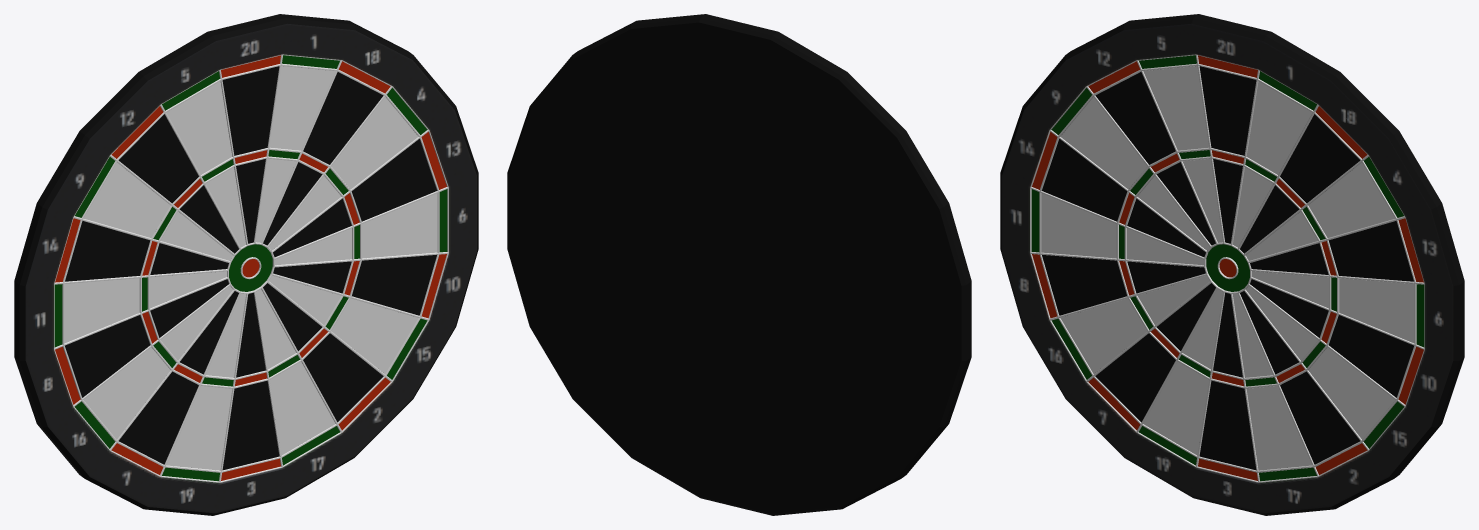
Rendered from low-poly-dart-board-56fc6a.glb.
The picture shows the model from 3 angles, left to right: view 1: azimuth 30°, elevation 25°; view 2: azimuth 150°, elevation 25°; view 3: azimuth 330°, elevation 25°; orthographic projection.
Visible parts, largest first — view 1: PropMesh; view 2: PropMesh; view 3: PropMesh.
Part boxes in pixels (<box>): PropMesh: <box>14,14,478,515</box>; PropMesh: <box>507,14,971,515</box>; PropMesh: <box>1000,14,1464,515</box>.
Size of the model in its own units: 0.45 by 0.45 by 0.016.
Materials: 6 (1 with a texture image).
